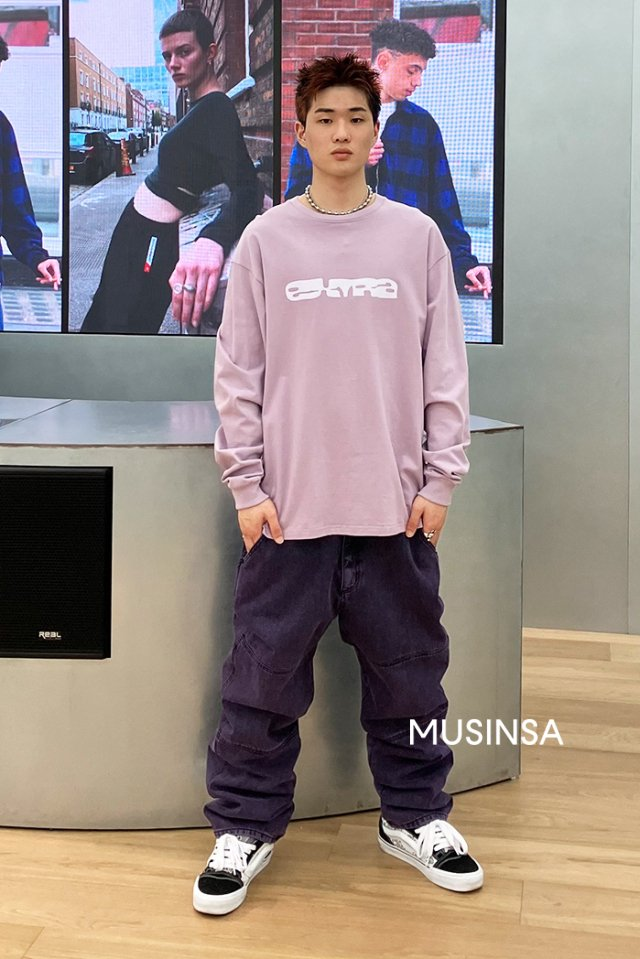Accessories: (299, 183, 382, 215)
Pants: (205, 517, 467, 842)
Shoes: (184, 819, 497, 924)
Top: (209, 182, 476, 542)
